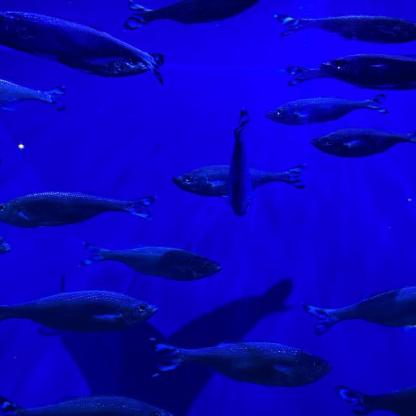fish: (0, 6, 159, 78), (158, 336, 328, 384), (1, 284, 162, 332), (0, 186, 171, 230), (283, 52, 416, 98), (303, 281, 416, 333), (85, 240, 221, 282), (169, 160, 315, 196), (140, 0, 281, 37), (284, 10, 416, 47), (260, 90, 390, 126), (0, 393, 176, 416), (314, 124, 416, 162), (0, 72, 86, 115), (225, 110, 256, 216), (336, 383, 416, 416)
